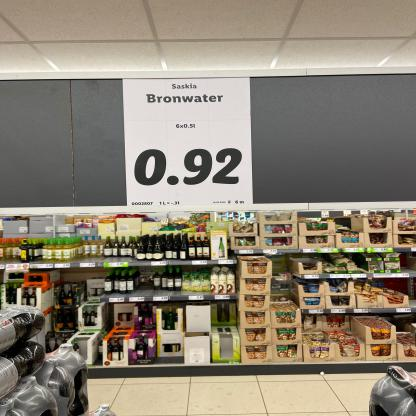prtg: (123, 78, 254, 207)
